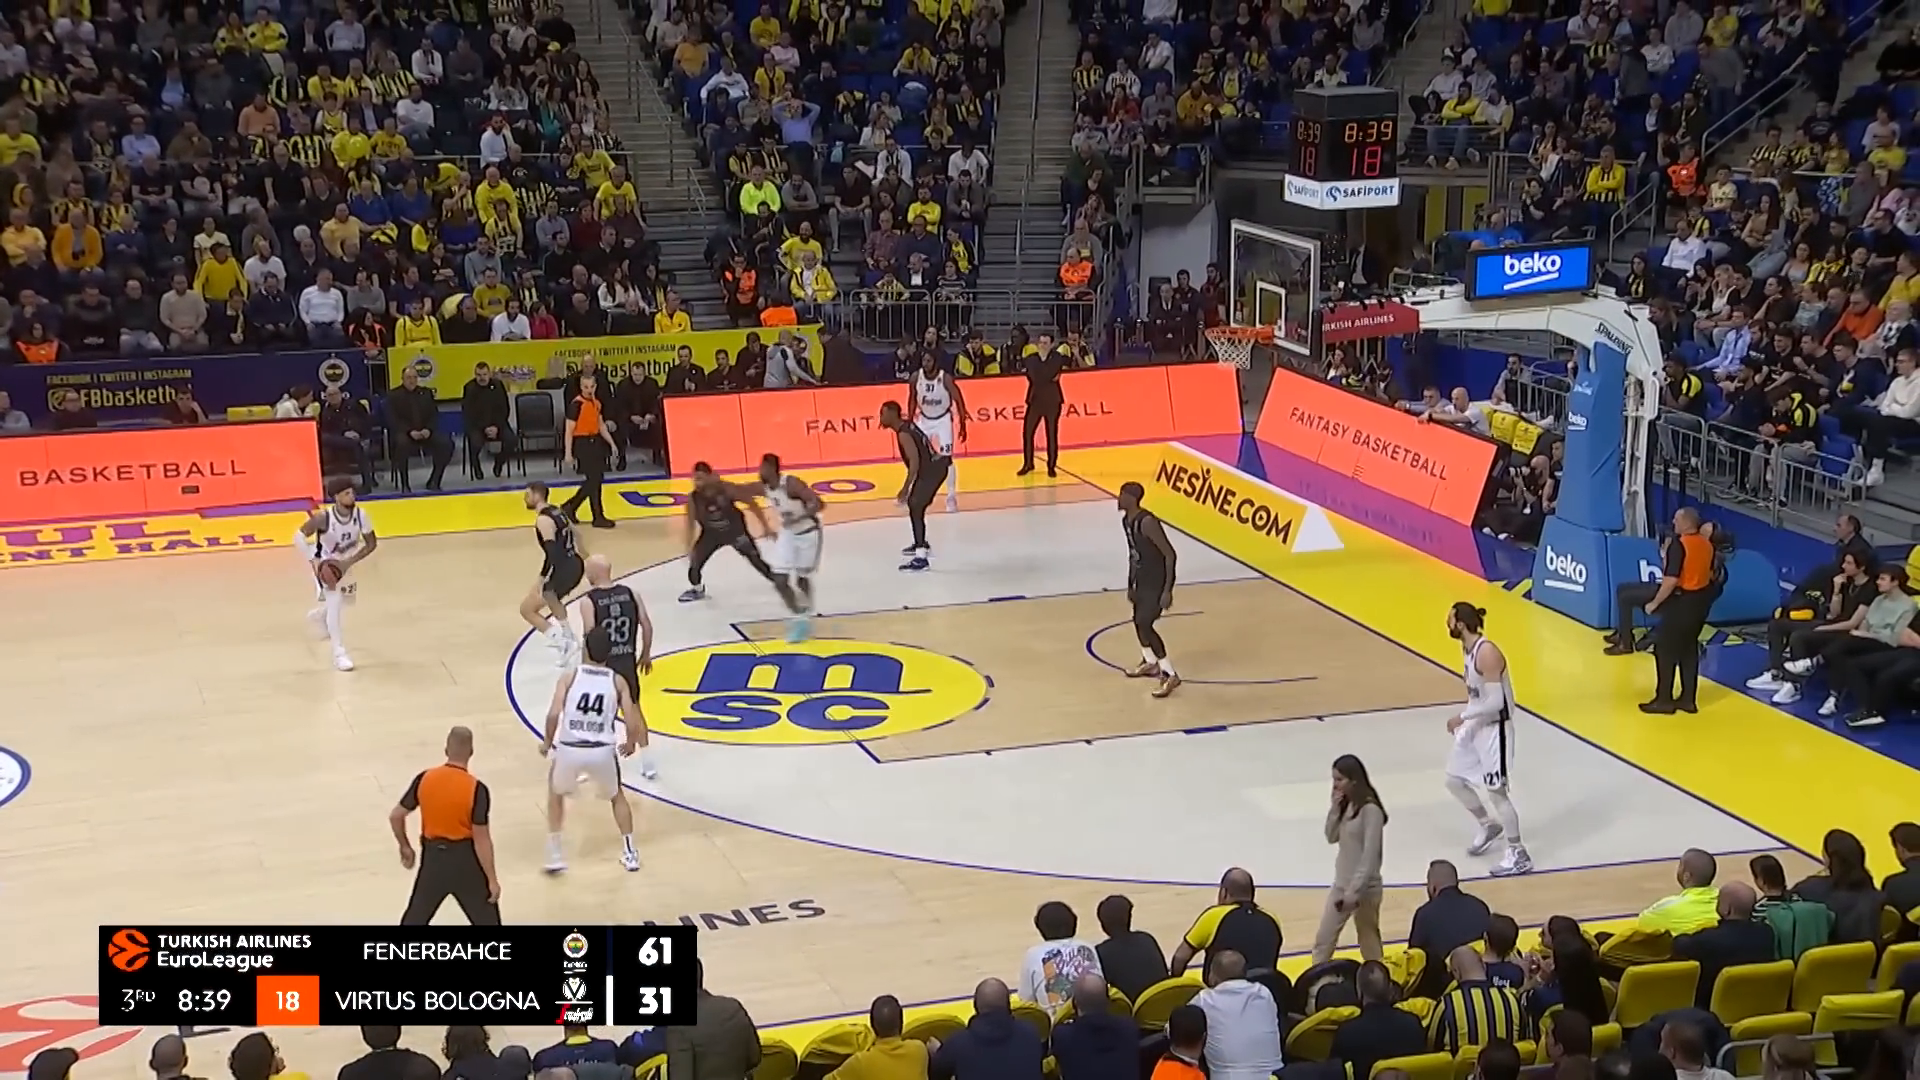ball: (316, 558, 348, 587)
net: (1203, 324, 1259, 371)
